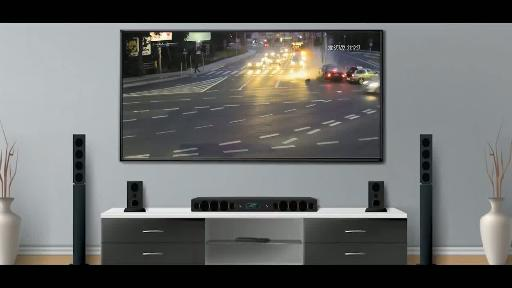Accident: (279, 49, 384, 107)
